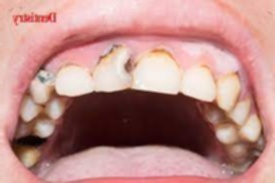Caries: (95, 42, 144, 78), (11, 129, 49, 150), (37, 64, 61, 89)
